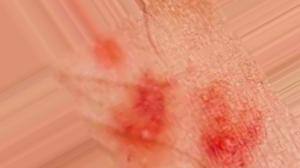Spider: (197, 81, 264, 168), (111, 71, 170, 165)
